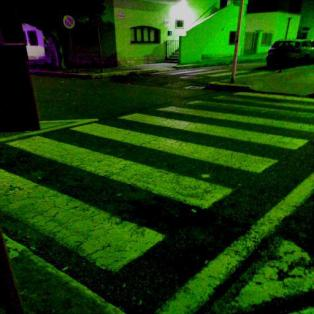Paso de Cebra: (66, 108, 313, 178)
